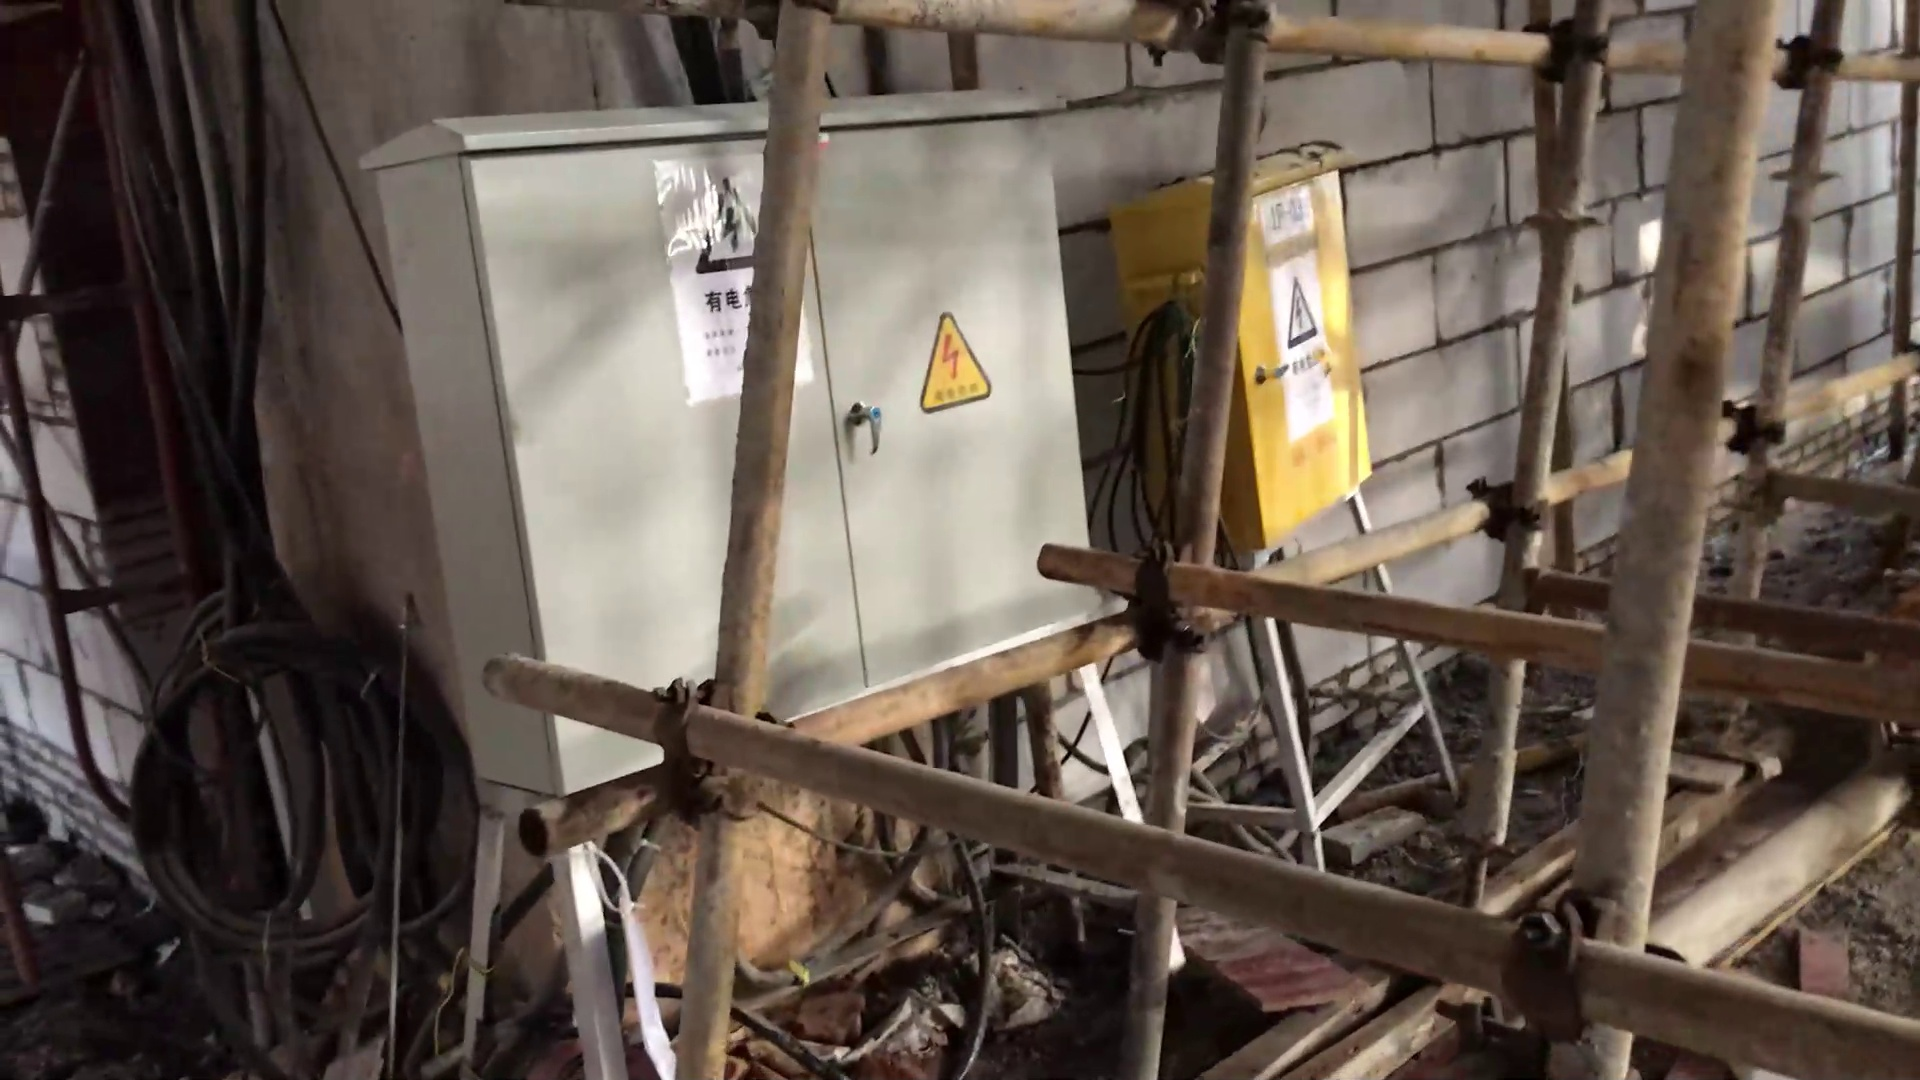ebox: (355, 83, 1105, 804), (1109, 140, 1375, 554)
